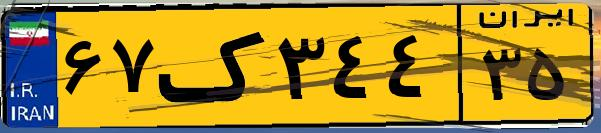3: (270, 28, 330, 110), (475, 38, 525, 113)
4: (385, 28, 445, 110), (330, 28, 385, 110)
5: (525, 38, 570, 115)
6: (57, 26, 110, 100)
7: (110, 28, 158, 98)
ک: (158, 12, 270, 120)
